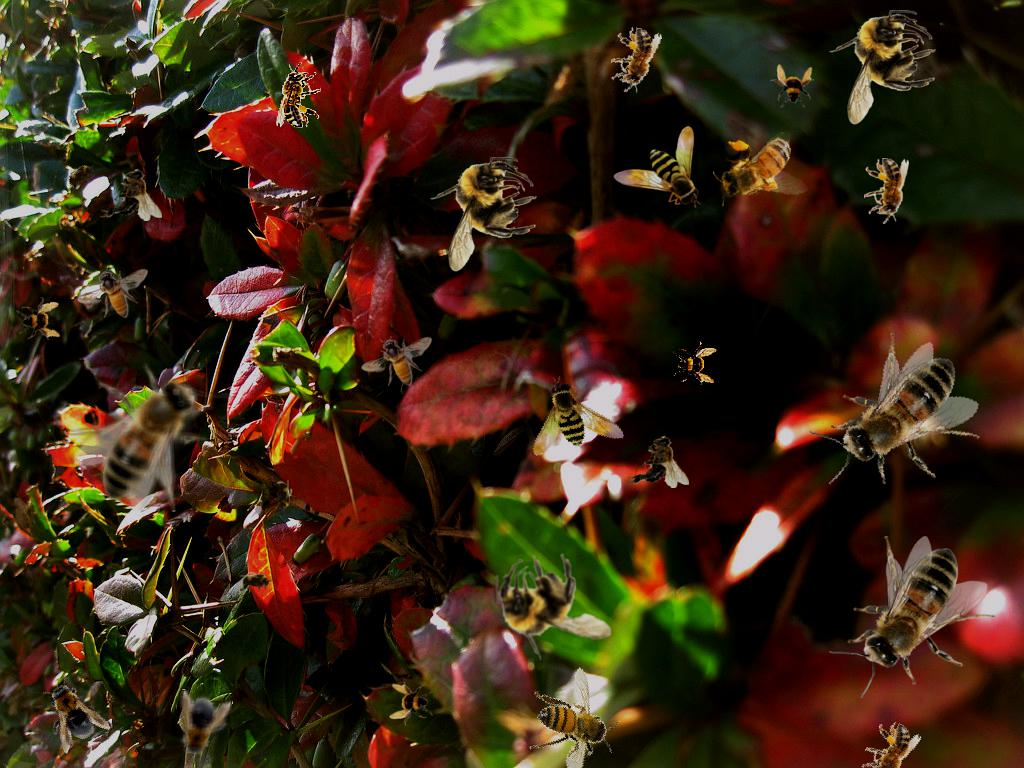Bee: (797, 319, 1000, 517), (829, 536, 996, 698), (64, 350, 231, 512), (508, 660, 637, 768), (493, 550, 614, 663), (523, 374, 637, 484), (430, 157, 537, 272), (829, 10, 936, 125), (709, 129, 809, 208), (613, 126, 701, 208), (30, 670, 112, 756), (168, 688, 234, 766), (605, 23, 663, 98), (852, 714, 924, 768), (361, 336, 432, 386), (77, 268, 148, 318), (627, 435, 689, 488), (100, 168, 162, 221), (864, 158, 909, 224), (276, 62, 321, 128), (14, 294, 64, 344), (389, 682, 433, 726), (673, 341, 717, 385), (770, 64, 814, 108), (58, 155, 104, 197), (271, 476, 293, 516), (236, 571, 276, 593)
